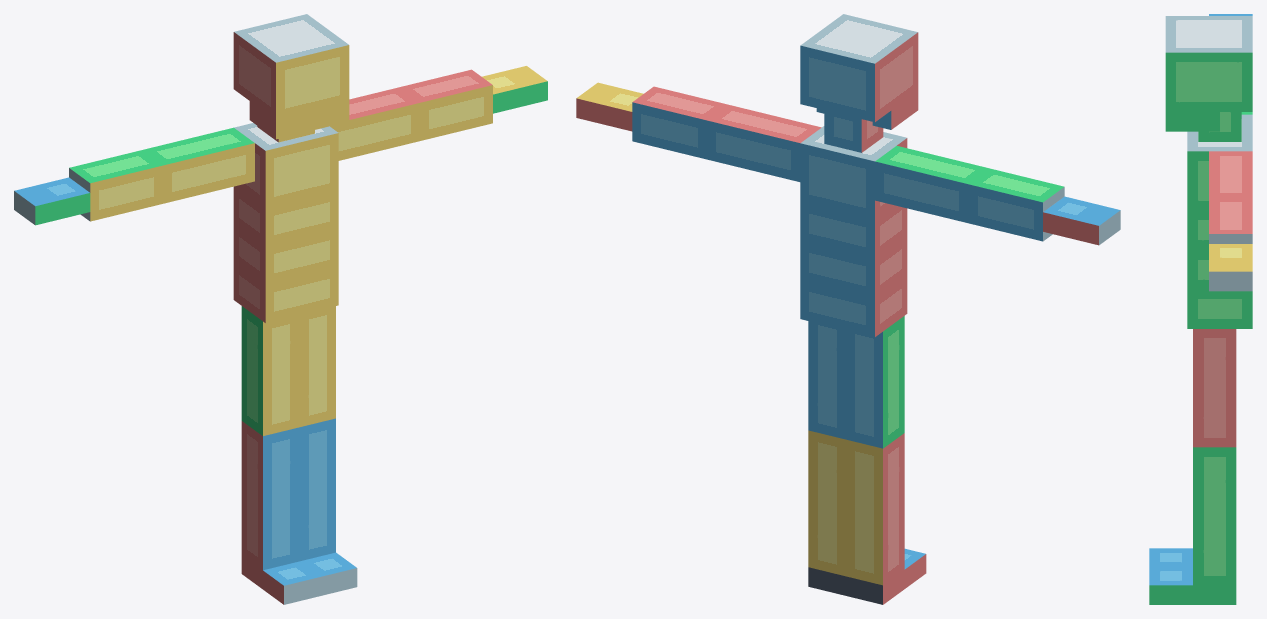
File: character_nodes.gltf
The picture shows the model from 3 angles, left to right: view 1: azimuth 30°, elevation 25°; view 2: azimuth 150°, elevation 25°; view 3: azimuth 270°, elevation 25°; orthographic projection. The views are drawn at different scales.
Visible parts, largest first — view 1: head_skull_skin, right_knee_skin, right_leg_skin, torso_upper_chest_skin, right_arm_upper_skin, left_knee_skin, right_arm_lower_skin, left_arm_upper_skin, left_arm_lower_skin, left_leg_skin, torso_hip_skin, torso_spine_skin (+8 smaller); view 2: head_skull_skin, right_knee_skin, right_leg_skin, torso_upper_chest_skin, left_arm_upper_skin, right_arm_upper_skin, left_knee_skin, right_arm_lower_skin, left_arm_lower_skin, torso_hip_skin, torso_spine_skin, torso_chest_skin (+9 smaller); view 3: head_skull_skin, left_knee_skin, left_leg_skin, torso_hip_skin, torso_upper_chest_skin, left_arm_upper_skin, left_arm_lower_skin, left_feet_skin, left_knuckles_skin, head_jaw_skin, torso_neck_skin, torso_spine_skin (+4 smaller).
Part boxes in pixels (x1,y1,x2,y2): head_skull_skin: (233,14,349,120); right_knee_skin: (241,421,299,570); right_leg_skin: (241,306,299,435); torso_upper_chest_skin: (234,123,338,208); right_arm_upper_skin: (143,127,254,203); left_knee_skin: (299,418,335,561); right_arm_lower_skin: (69,150,163,221); left_arm_upper_skin: (330,87,419,160); left_arm_lower_skin: (399,69,492,140); left_leg_skin: (299,306,335,427); torso_hip_skin: (233,262,338,323); torso_spine_skin: (233,223,338,284); head_skull_skin: (800,14,918,122); right_knee_skin: (845,433,904,585); right_leg_skin: (845,316,904,448); torso_upper_chest_skin: (800,126,907,219); left_arm_upper_skin: (707,104,821,181); right_arm_upper_skin: (875,145,989,222); left_knee_skin: (808,430,845,576); right_arm_lower_skin: (968,168,1064,241); left_arm_lower_skin: (632,86,727,159); torso_hip_skin: (800,275,907,337); torso_spine_skin: (800,236,907,297); torso_chest_skin: (800,202,907,258); head_skull_skin: (1165,16,1252,111); left_knee_skin: (1193,447,1236,585); left_leg_skin: (1193,329,1236,447); torso_hip_skin: (1187,289,1252,328); torso_upper_chest_skin: (1187,114,1252,210); left_arm_upper_skin: (1209,151,1252,197); left_arm_lower_skin: (1209,197,1252,243); left_feet_skin: (1149,567,1192,604); left_knuckles_skin: (1209,262,1252,291); head_jaw_skin: (1165,112,1219,131); torso_neck_skin: (1198,112,1241,141); torso_spine_skin: (1187,250,1208,289).
Size of the model in its own units: 1.75 by 1.75 by 0.2969.
Materials: 1 (1 with a texture image).
